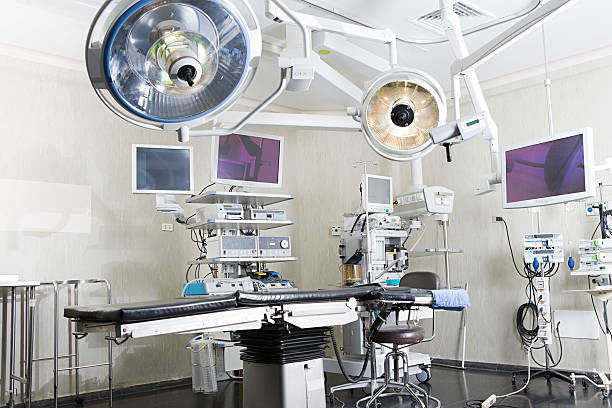bedside_monitor: (501, 128, 596, 211), (212, 132, 285, 189), (131, 146, 196, 197), (362, 175, 395, 214)
chair: (360, 321, 440, 408)
electrosurgical_unit: (253, 275, 299, 292)
operating_bed: (64, 281, 471, 408)
surgical_light: (85, 1, 263, 130), (356, 71, 447, 162)
utility_cart: (1, 269, 118, 408)
